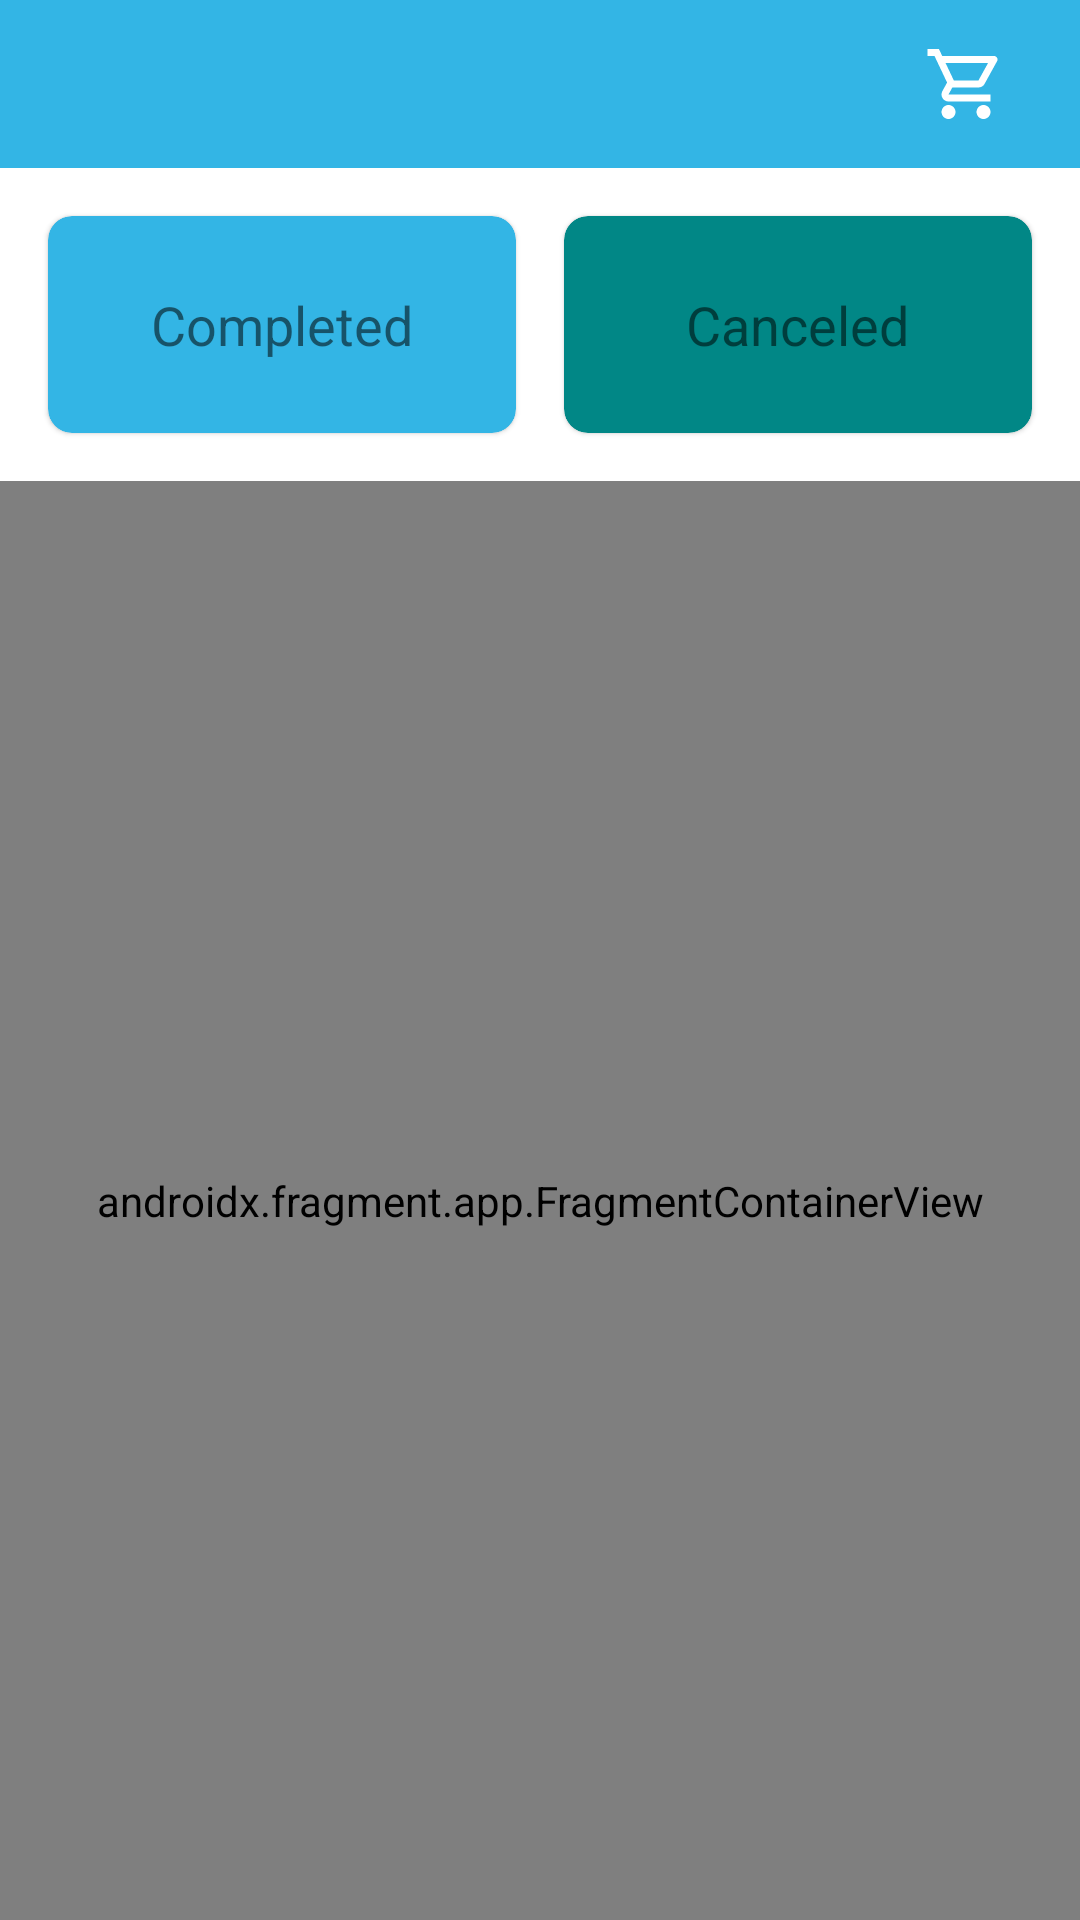

Icon bounding boxes for this 1080 × 1920 phone screenshot, format (x1, y1, x2, y2):
shopping: (927, 49, 998, 119)
